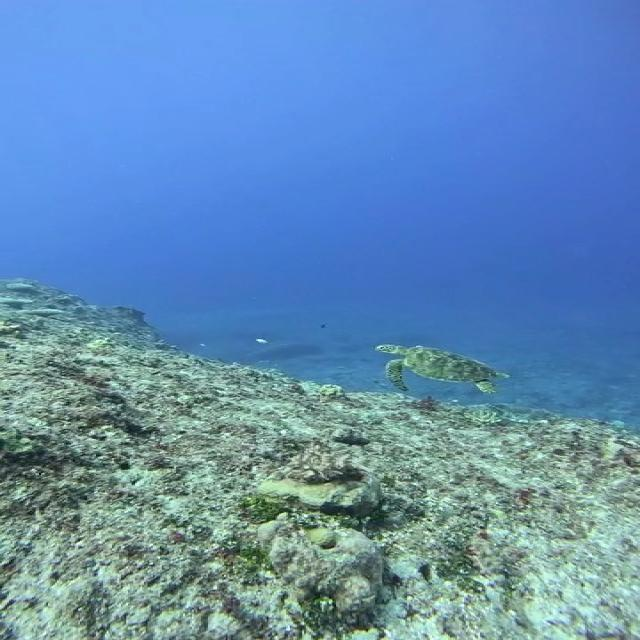turtle: (375, 344, 510, 394)
